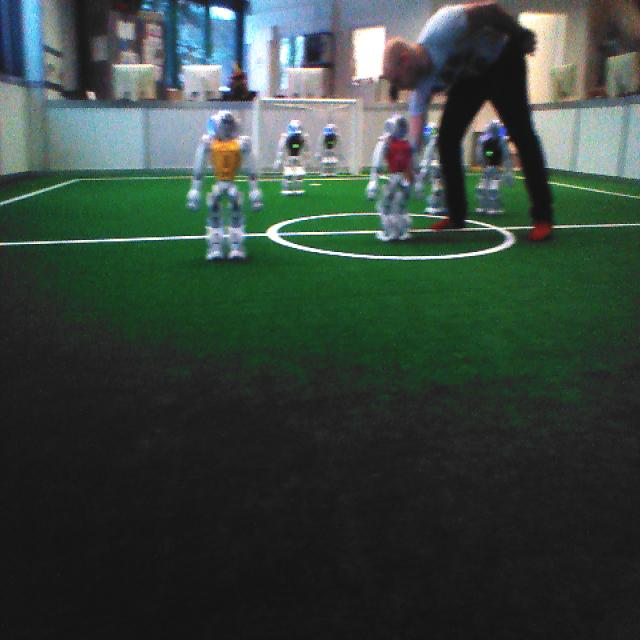goalpost: (350, 92, 364, 181), (252, 95, 265, 180)
